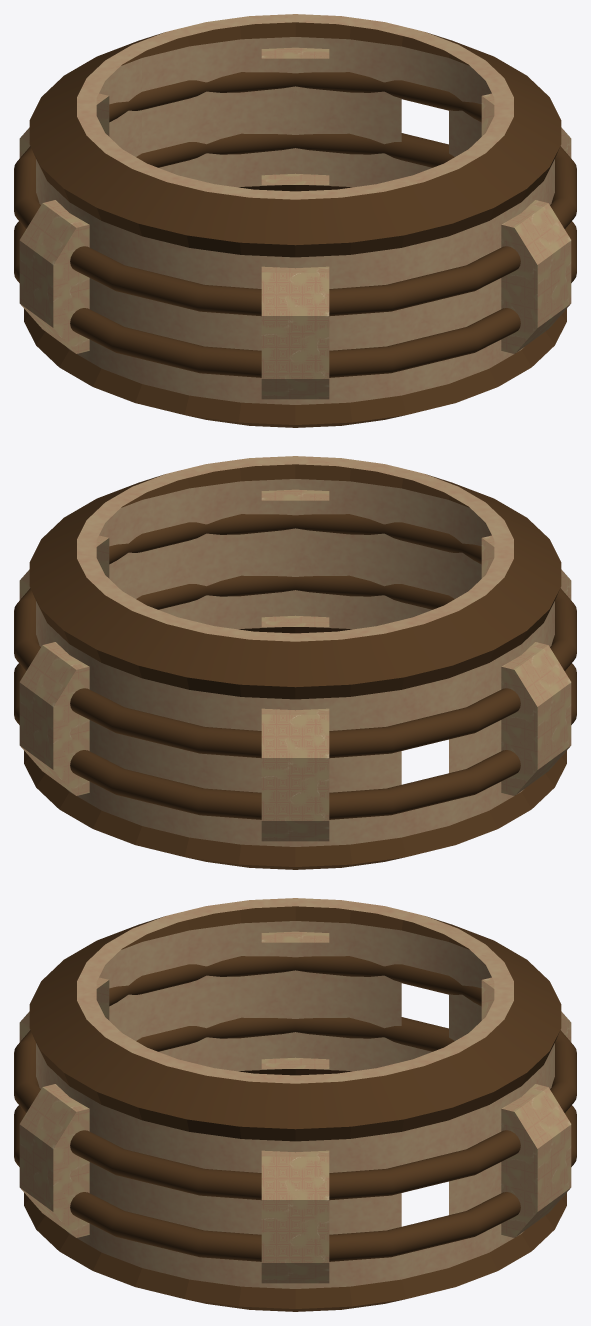
Rendered from Tower Exterior.fbx.
3 renders of one model, top to bottom at view 1: azimuth 30°, elevation 25°; view 2: azimuth 150°, elevation 25°; view 3: azimuth 270°, elevation 25°, orthographic.
Visible parts, largest first — view 1: Tower_Exterior6; view 2: Tower_Exterior6; view 3: Tower_Exterior6.
Part boxes in pixels (x1,y1,x2,y2): Tower_Exterior6: (14,14,576,427); Tower_Exterior6: (14,456,576,869); Tower_Exterior6: (14,898,576,1311).
Size of the model in its own units: 43.94 by 18.5 by 41.36.
